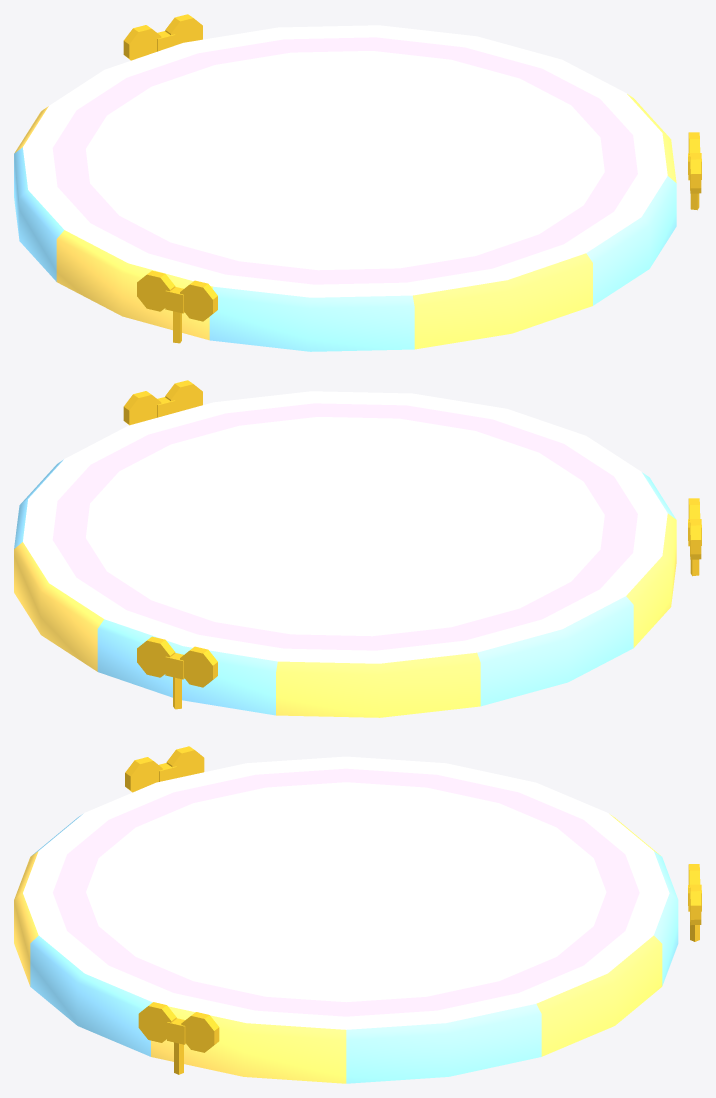
File: spin-turntable.glb
3 views of the same model, one above another, from view 1: azimuth 30°, elevation 25°; view 2: azimuth 150°, elevation 25°; view 3: azimuth 270°, elevation 25° (orthographic).
Visible parts, largest first — view 1: spin-turntable; view 2: spin-turntable; view 3: spin-turntable.
Boxes of the visible parts, box(x1,y1,x2,y2) form: spin-turntable: box(14, 14, 701, 351); spin-turntable: box(14, 380, 701, 717); spin-turntable: box(14, 746, 701, 1083).
Size of the model in its own units: 12 by 1.24 by 12.42.
